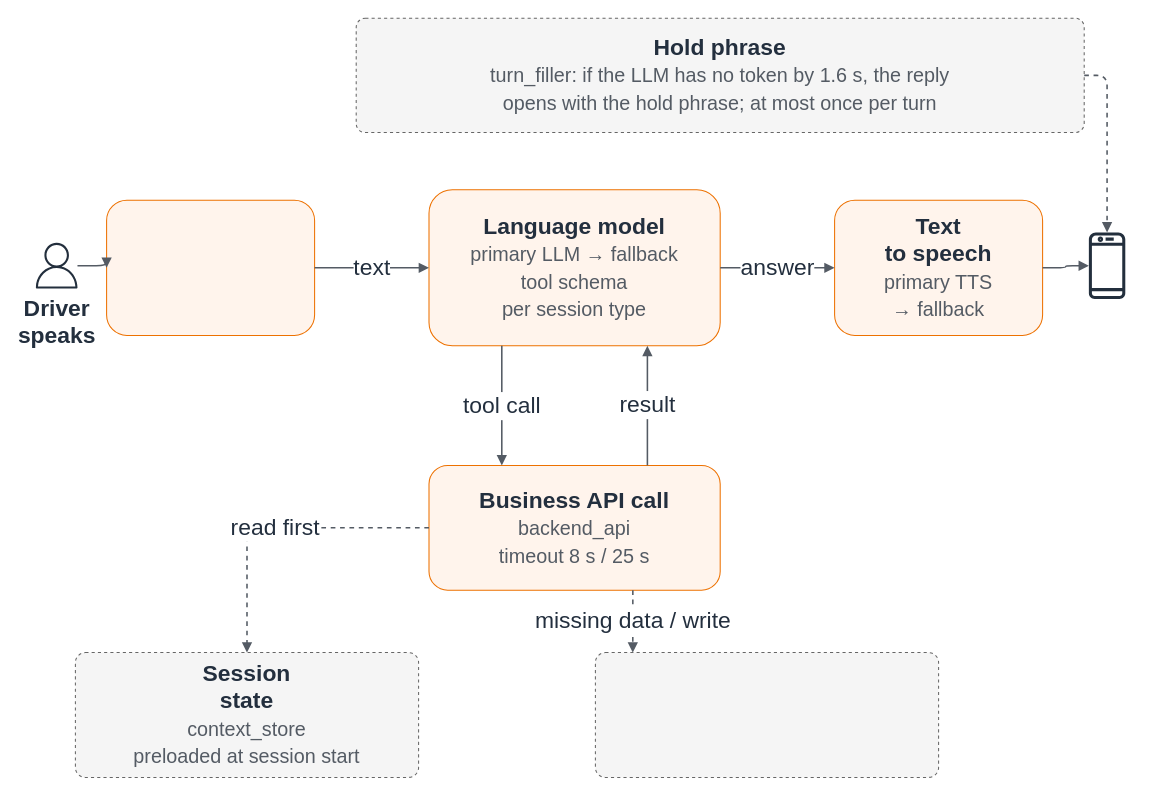
Image size: 1165x796. Some labels were removed from this diagram. The box of each missing label's shape, as (x1, y1, x2, y2) in pixels:
Plays answer: (1084, 232, 1129, 298)
Speech to text primary STT → fallback: (106, 199, 315, 335)
Trip & dispatch service HTTPS via API Gateway: (594, 652, 939, 777)
